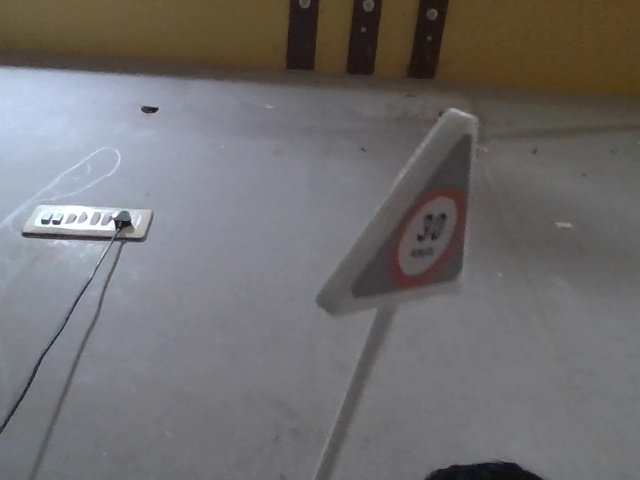speedlimit: (318, 115, 498, 310)
